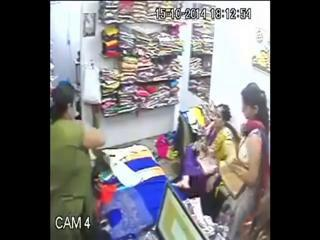Normal: (50, 80, 106, 239), (175, 104, 242, 218), (216, 105, 266, 240)
